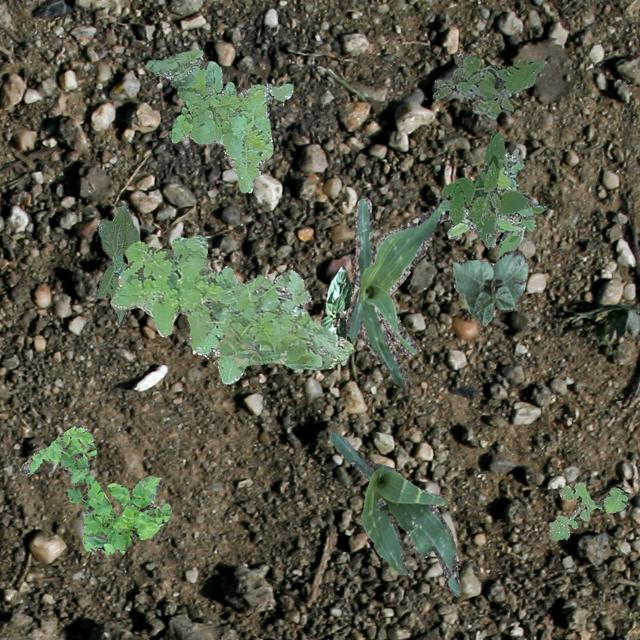crop: (330, 430, 460, 596), (346, 198, 450, 386), (452, 250, 528, 326), (96, 204, 140, 324), (320, 264, 352, 338)
weed: (110, 234, 352, 382), (144, 47, 292, 192), (18, 424, 170, 554), (445, 147, 543, 255), (442, 130, 532, 247), (431, 50, 543, 118), (546, 480, 626, 540)
